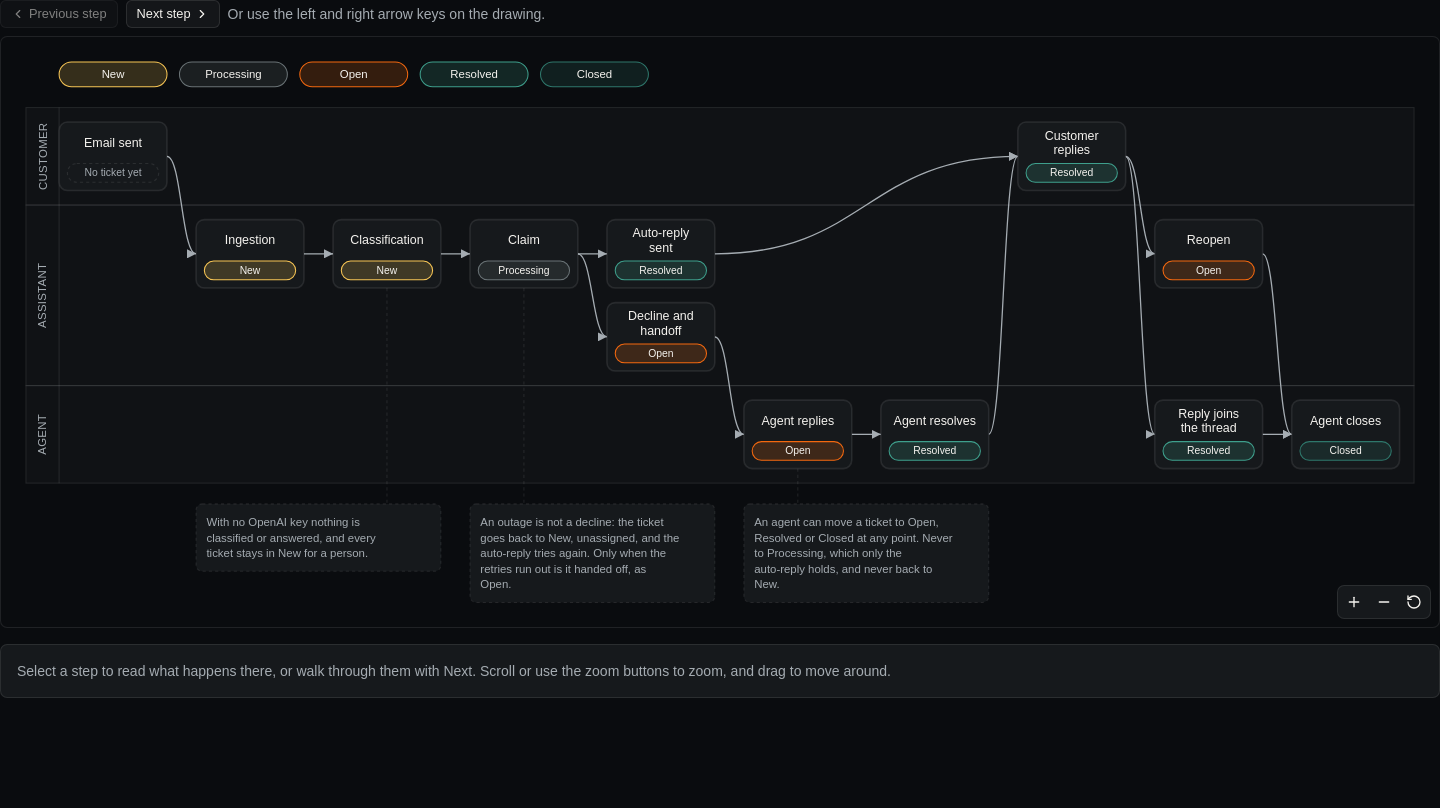
LifecycleView's stepping › Next N times lands on the data's Nth step, its title in the panel
Click the button "Next step".
click(173, 14)  # box [126,0,220,28]
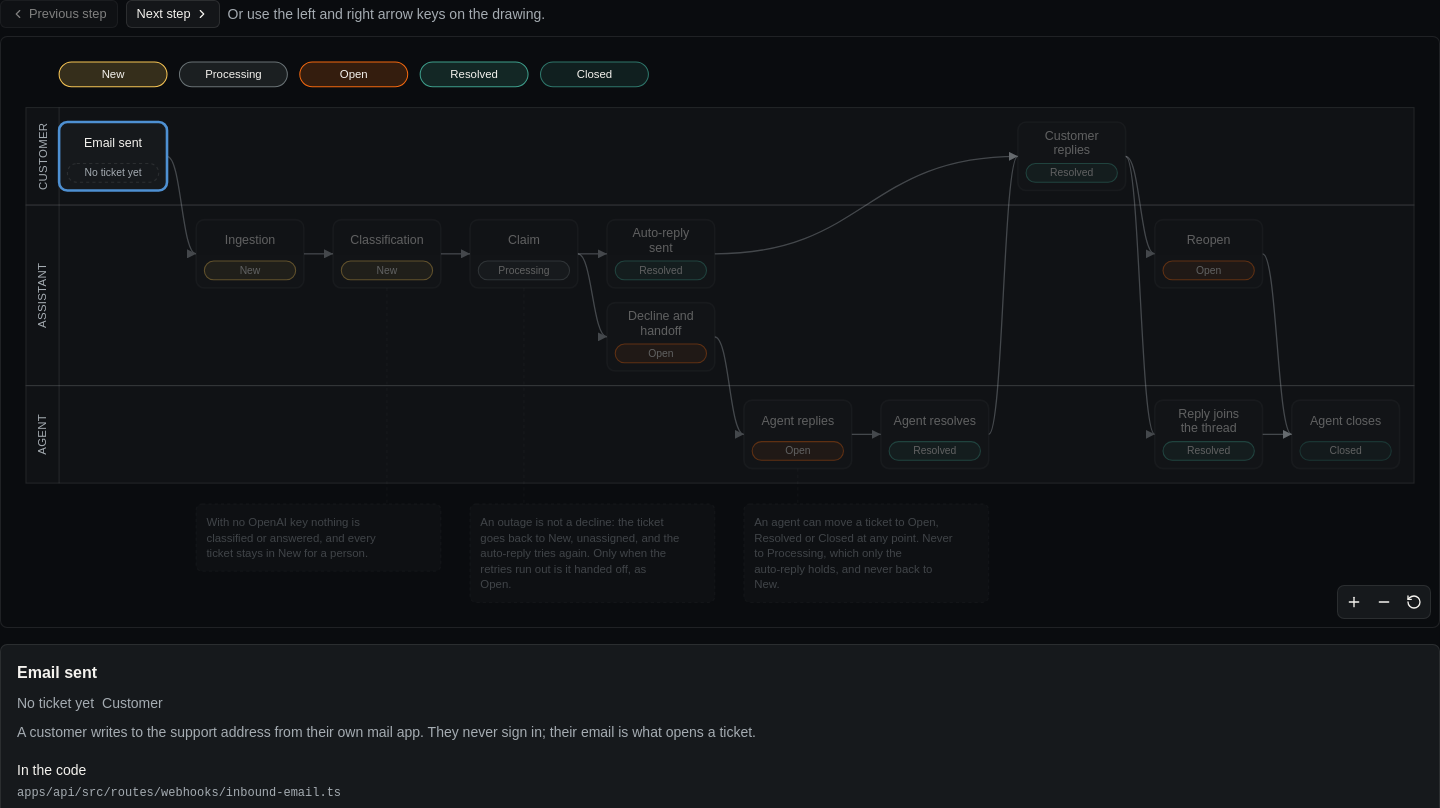
Click the button "Next step".
click(173, 14)  # box [126,0,220,28]
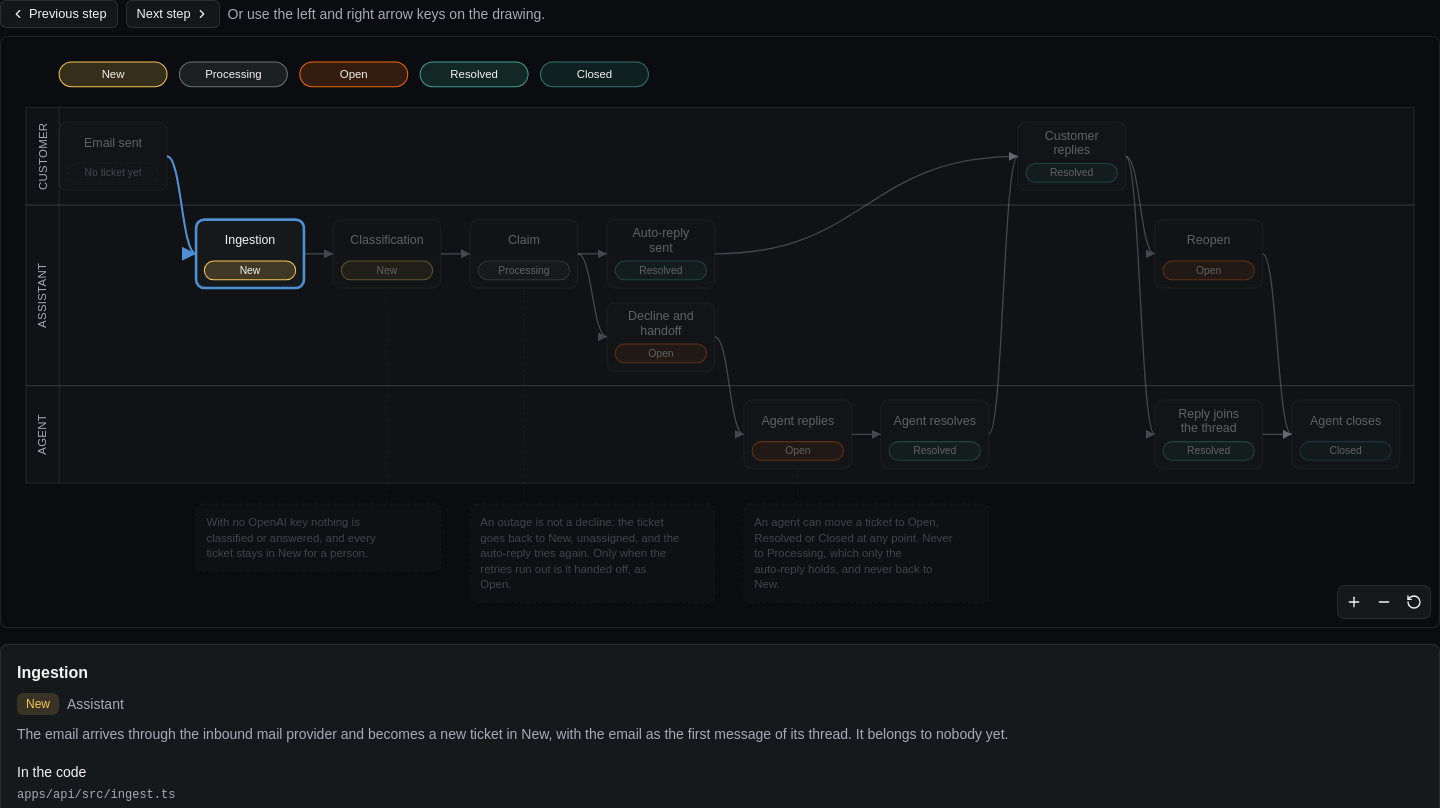
Click the button "Next step".
click(173, 14)  # box [126,0,220,28]
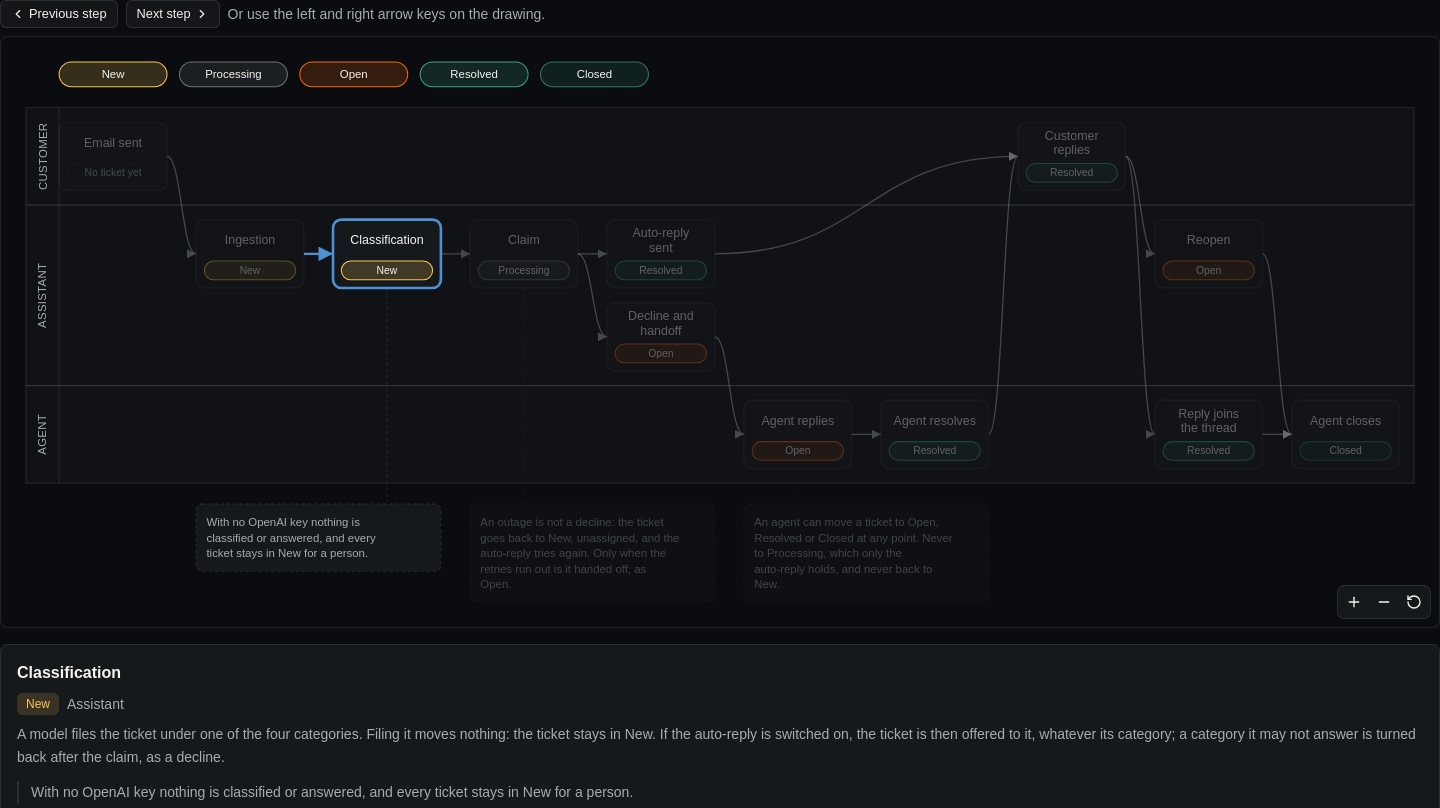
Check: the element named "Details" shows "Classification", box [17,664,121,681]
